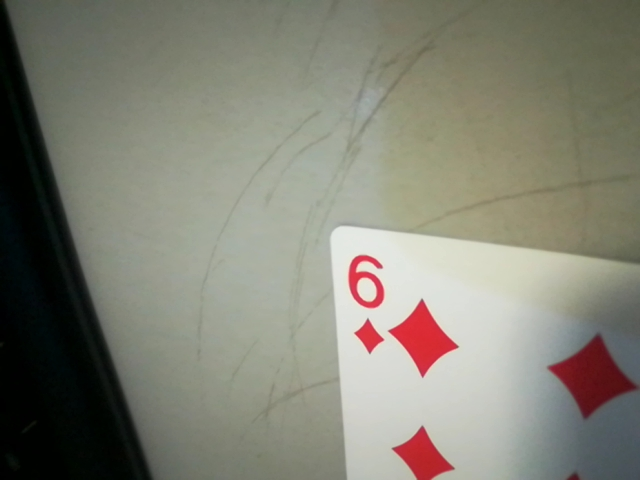fk 6: (338, 247, 393, 360)
